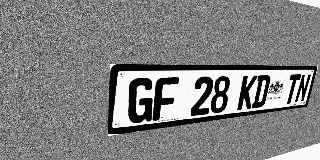2: (190, 76, 214, 116)
8: (209, 76, 232, 114)
D: (251, 75, 271, 108)
F: (152, 77, 179, 121)
G: (127, 78, 155, 124)
K: (237, 75, 258, 110)
N: (294, 74, 311, 103)
T: (283, 74, 301, 104)
